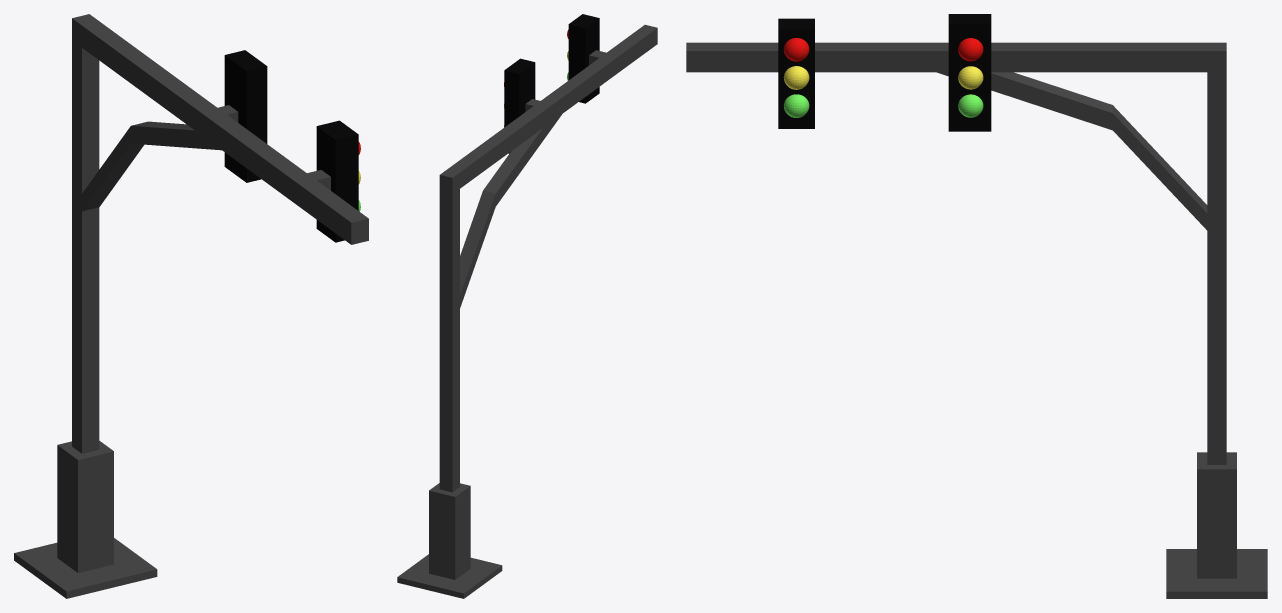
Rendered from TrafficLight.fbx.
The picture shows the model from 3 angles, left to right: view 1: azimuth 30°, elevation 25°; view 2: azimuth 150°, elevation 25°; view 3: azimuth 270°, elevation 25°; orthographic projection. The views are drawn at different scales.
Parts seen in each view (by area): view 1: Cube, Cube_cell, Cube_cell.002, Cube_cell.009, Cube_cell.001, Cube_cell.003, Cube_cell.007, Cube_cell.008, Cube_cell.006; view 2: Cube, Cube_cell, Cube_cell.002, Cube_cell.009, Cube_cell.003, Cube_cell.007; view 3: Cube, Cube_cell.002, Cube_cell, Cube_cell.009, Cube_cell.003, Cube_cell.006.
Boxes of the visible parts, <box> form: Cube: <box>14,14,368,598</box>; Cube_cell: <box>14,380,157,597</box>; Cube_cell.002: <box>72,21,154,380</box>; Cube_cell.009: <box>157,55,267,182</box>; Cube_cell.001: <box>318,134,358,242</box>; Cube_cell.003: <box>296,177,368,244</box>; Cube_cell.007: <box>152,127,224,150</box>; Cube_cell.008: <box>72,345,99,432</box>; Cube_cell.006: <box>109,45,158,100</box>; Cube: <box>397,14,657,598</box>; Cube_cell: <box>411,467,502,598</box>; Cube_cell.002: <box>446,158,512,421</box>; Cube_cell.009: <box>515,66,587,146</box>; Cube_cell.003: <box>580,46,649,100</box>; Cube_cell.007: <box>511,115,560,181</box>; Cube: <box>686,14,1267,598</box>; Cube_cell.002: <box>1073,51,1226,362</box>; Cube_cell: <box>1166,407,1267,598</box>; Cube_cell.009: <box>862,23,1063,131</box>; Cube_cell.003: <box>686,51,881,72</box>; Cube_cell.006: <box>1060,51,1164,72</box>.
Size of the model in its own units: 223 by 1249 by 1147.
